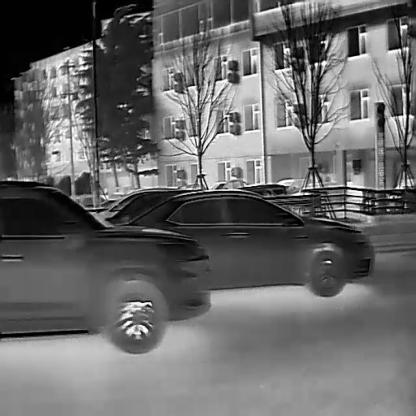car: (0, 179, 211, 354), (112, 186, 375, 297), (70, 192, 106, 206), (277, 178, 305, 194)
